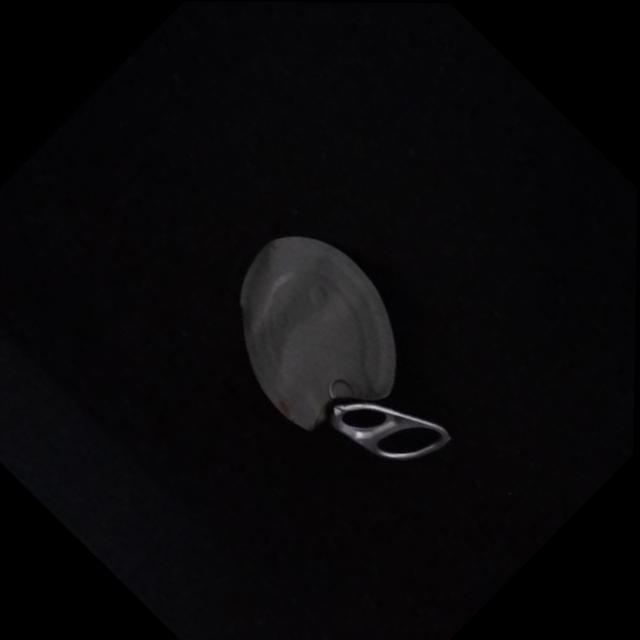metal: (241, 237, 449, 459)
